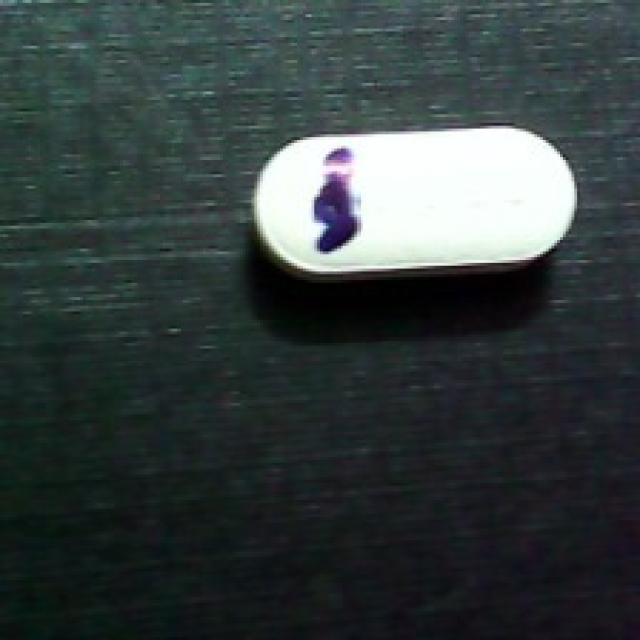defected: (240, 109, 589, 289)
